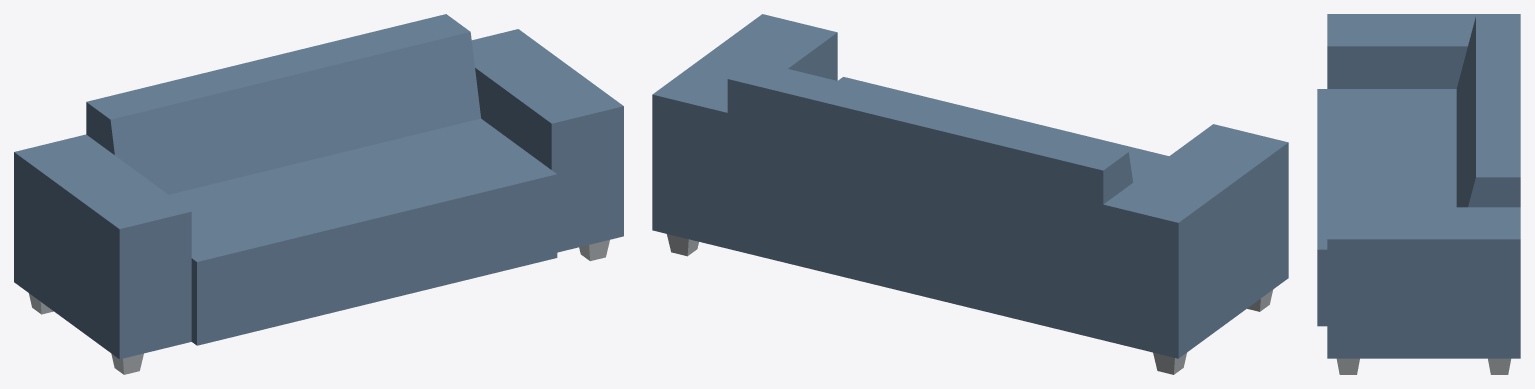
The model's file is sofa-modern-3seat.glb.
The picture shows the model from 3 angles, left to right: view 1: azimuth 30°, elevation 25°; view 2: azimuth 150°, elevation 25°; view 3: azimuth 270°, elevation 25°; orthographic projection. The views are drawn at different scales.
Visible parts, largest first — view 1: sofa-modern-3seat; view 2: sofa-modern-3seat; view 3: sofa-modern-3seat.
Part boxes in pixels (x1,y1,x2,y2): sofa-modern-3seat: (14, 14, 623, 374); sofa-modern-3seat: (652, 14, 1288, 374); sofa-modern-3seat: (1317, 14, 1520, 374).
Size of the model in its own units: 2.1 by 0.74 by 0.8.
